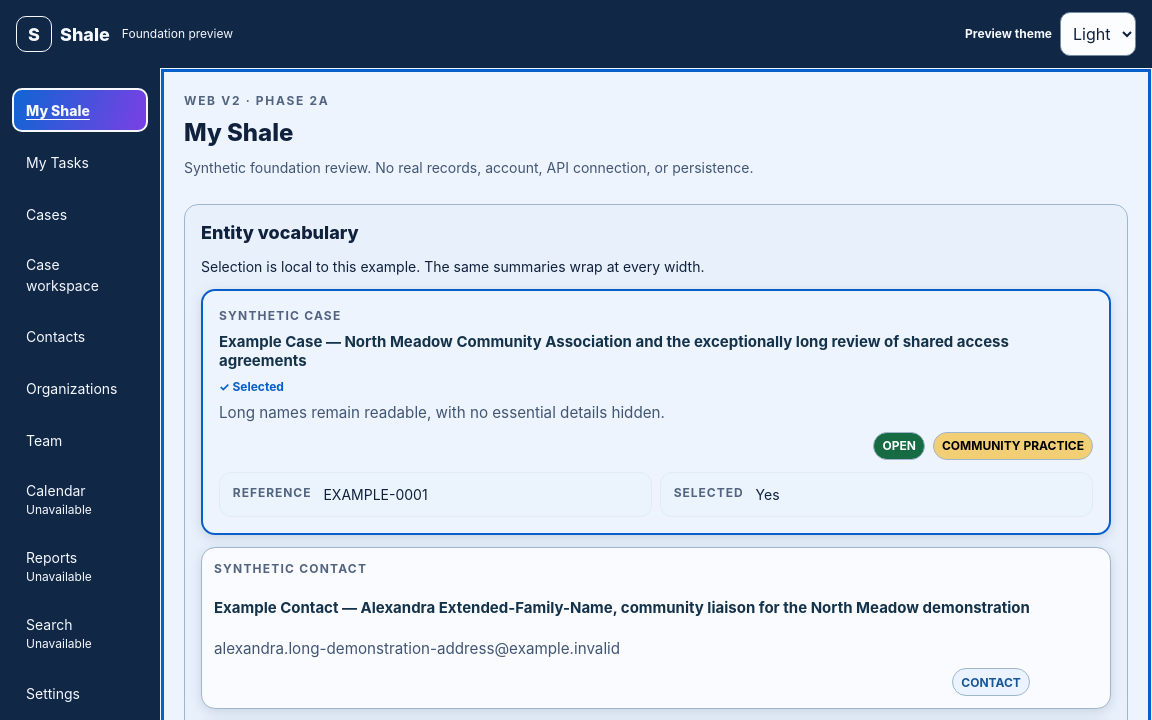
isolated synthetic foundation › keeps My Tasks reachable and exposes the active destination without color
Click the link "My Tasks" at [57, 162], box [26, 154, 89, 170]
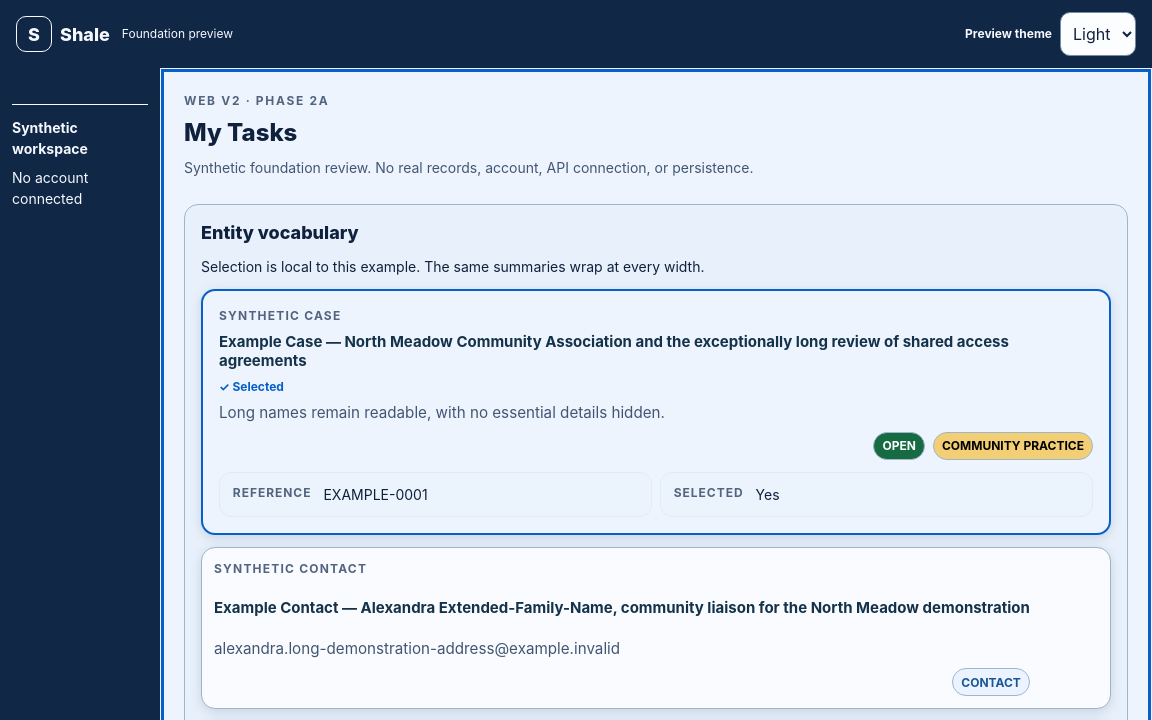
Now the heading "My Tasks" is shown, box [184, 118, 297, 147]
